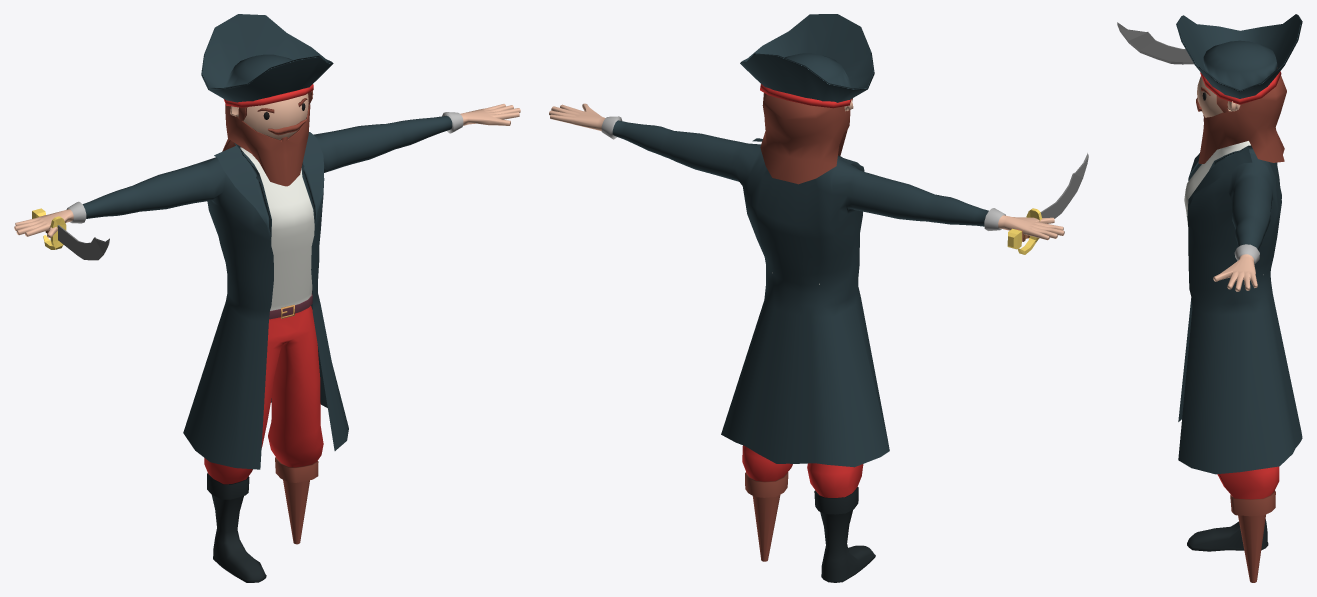
File: pirate.glb
The picture shows the model from 3 angles, left to right: view 1: azimuth 30°, elevation 25°; view 2: azimuth 150°, elevation 25°; view 3: azimuth 270°, elevation 25°; orthographic projection. The views are drawn at different scales.
Parts seen in each view (by area): view 1: polySurface26, Character02_correction:polySurface27, polySurface36, polySurface29, polySurface31, polySurface34, Box002; view 2: polySurface26, polySurface36, Character02_correction:polySurface27, polySurface31, Box002; view 3: polySurface26, polySurface36, Character02_correction:polySurface27, polySurface31, Box002, polySurface29, polySurface34, pPipe1.
Boxes of the visible parts, x1=… form: polySurface26: x1=14, y1=104, x2=520, y2=469; Character02_correction:polySurface27: x1=204, y1=306, x2=323, y2=582; polySurface36: x1=201, y1=14, x2=333, y2=102; polySurface29: x1=240, y1=147, x2=314, y2=310; polySurface31: x1=222, y1=91, x2=312, y2=186; polySurface34: x1=230, y1=90, x2=313, y2=139; Box002: x1=32, y1=208, x2=109, y2=260; polySurface26: x1=549, y1=103, x2=1064, y2=467; polySurface36: x1=740, y1=14, x2=874, y2=102; Character02_correction:polySurface27: x1=742, y1=445, x2=875, y2=582; polySurface31: x1=760, y1=93, x2=852, y2=184; Box002: x1=1007, y1=153, x2=1088, y2=254; polySurface26: x1=1178, y1=145, x2=1302, y2=474; polySurface36: x1=1176, y1=14, x2=1302, y2=98; Character02_correction:polySurface27: x1=1187, y1=466, x2=1279, y2=582; polySurface31: x1=1198, y1=75, x2=1286, y2=163; Box002: x1=1117, y1=22, x2=1193, y2=64; polySurface29: x1=1184, y1=141, x2=1263, y2=274; polySurface34: x1=1197, y1=76, x2=1240, y2=117; pPipe1: x1=1200, y1=71, x2=1281, y2=104.
Bounding box in the file's own units: 0.8407 × 0.8342 × 0.2579.
12 materials, 1 textured.
